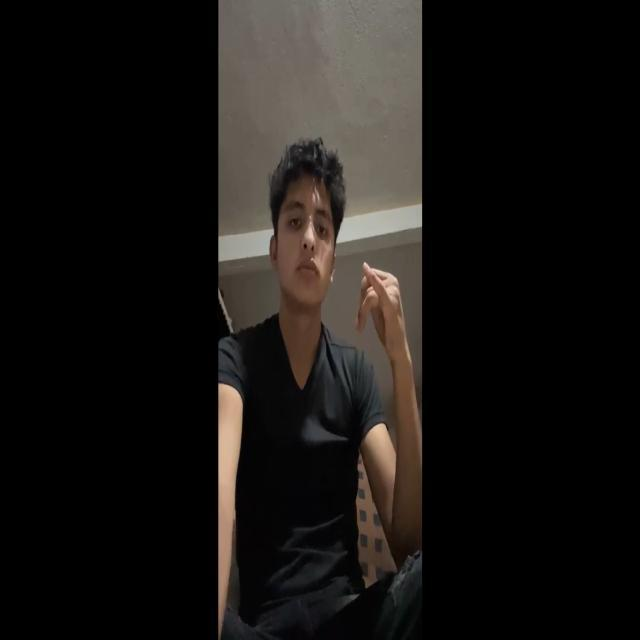J: (348, 246, 414, 382)
